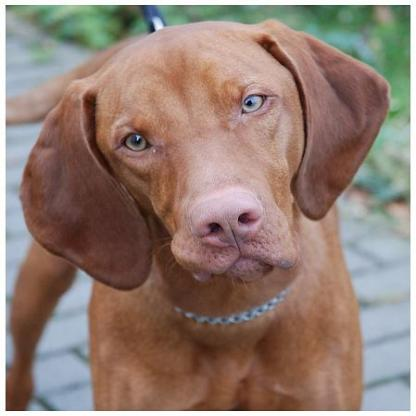vizsla: (20, 19, 389, 408)
